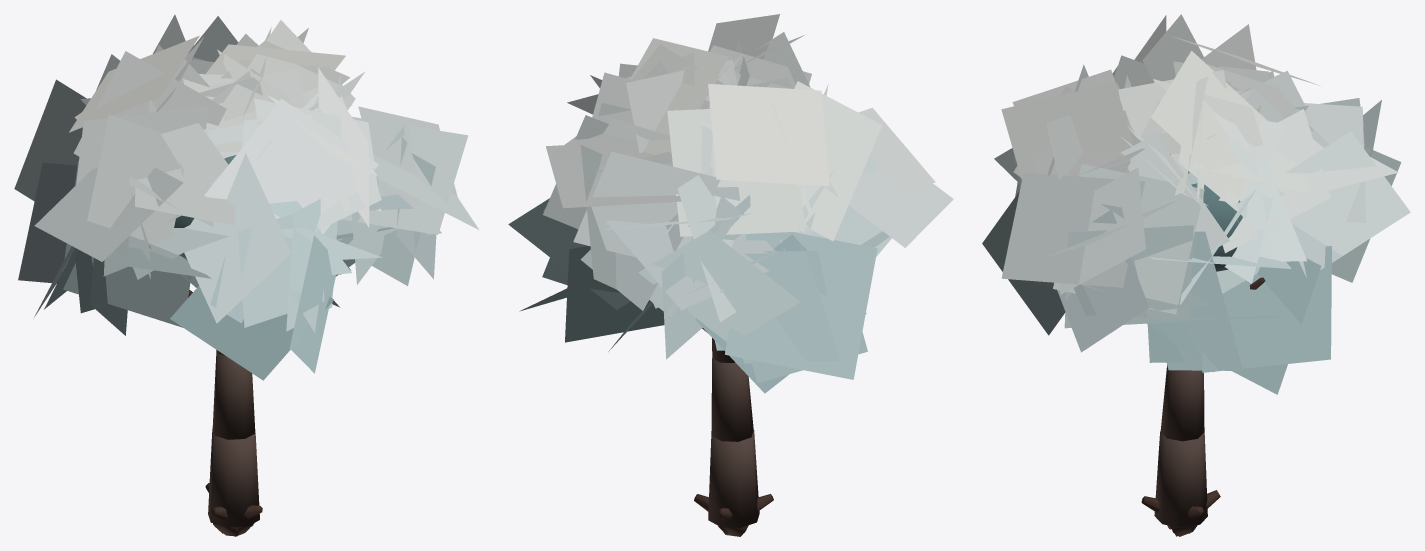
File: tree_blossom.glb
The picture shows the model from 3 angles, left to right: view 1: azimuth 30°, elevation 25°; view 2: azimuth 150°, elevation 25°; view 3: azimuth 270°, elevation 25°; orthographic projection.
Parts seen in each view (by area): view 1: Leaves, Tree; view 2: Leaves, Tree; view 3: Leaves, Tree.
Part boxes in pixels (x1,y1,x2,y2): Leaves: (14,14,478,380); Tree: (174,155,262,536); Leaves: (508,14,953,393); Tree: (694,328,773,536); Leaves: (982,14,1410,394); Tree: (1141,154,1265,536).
Bounding box in the file's own units: 3.3 × 4.09 × 3.27.
